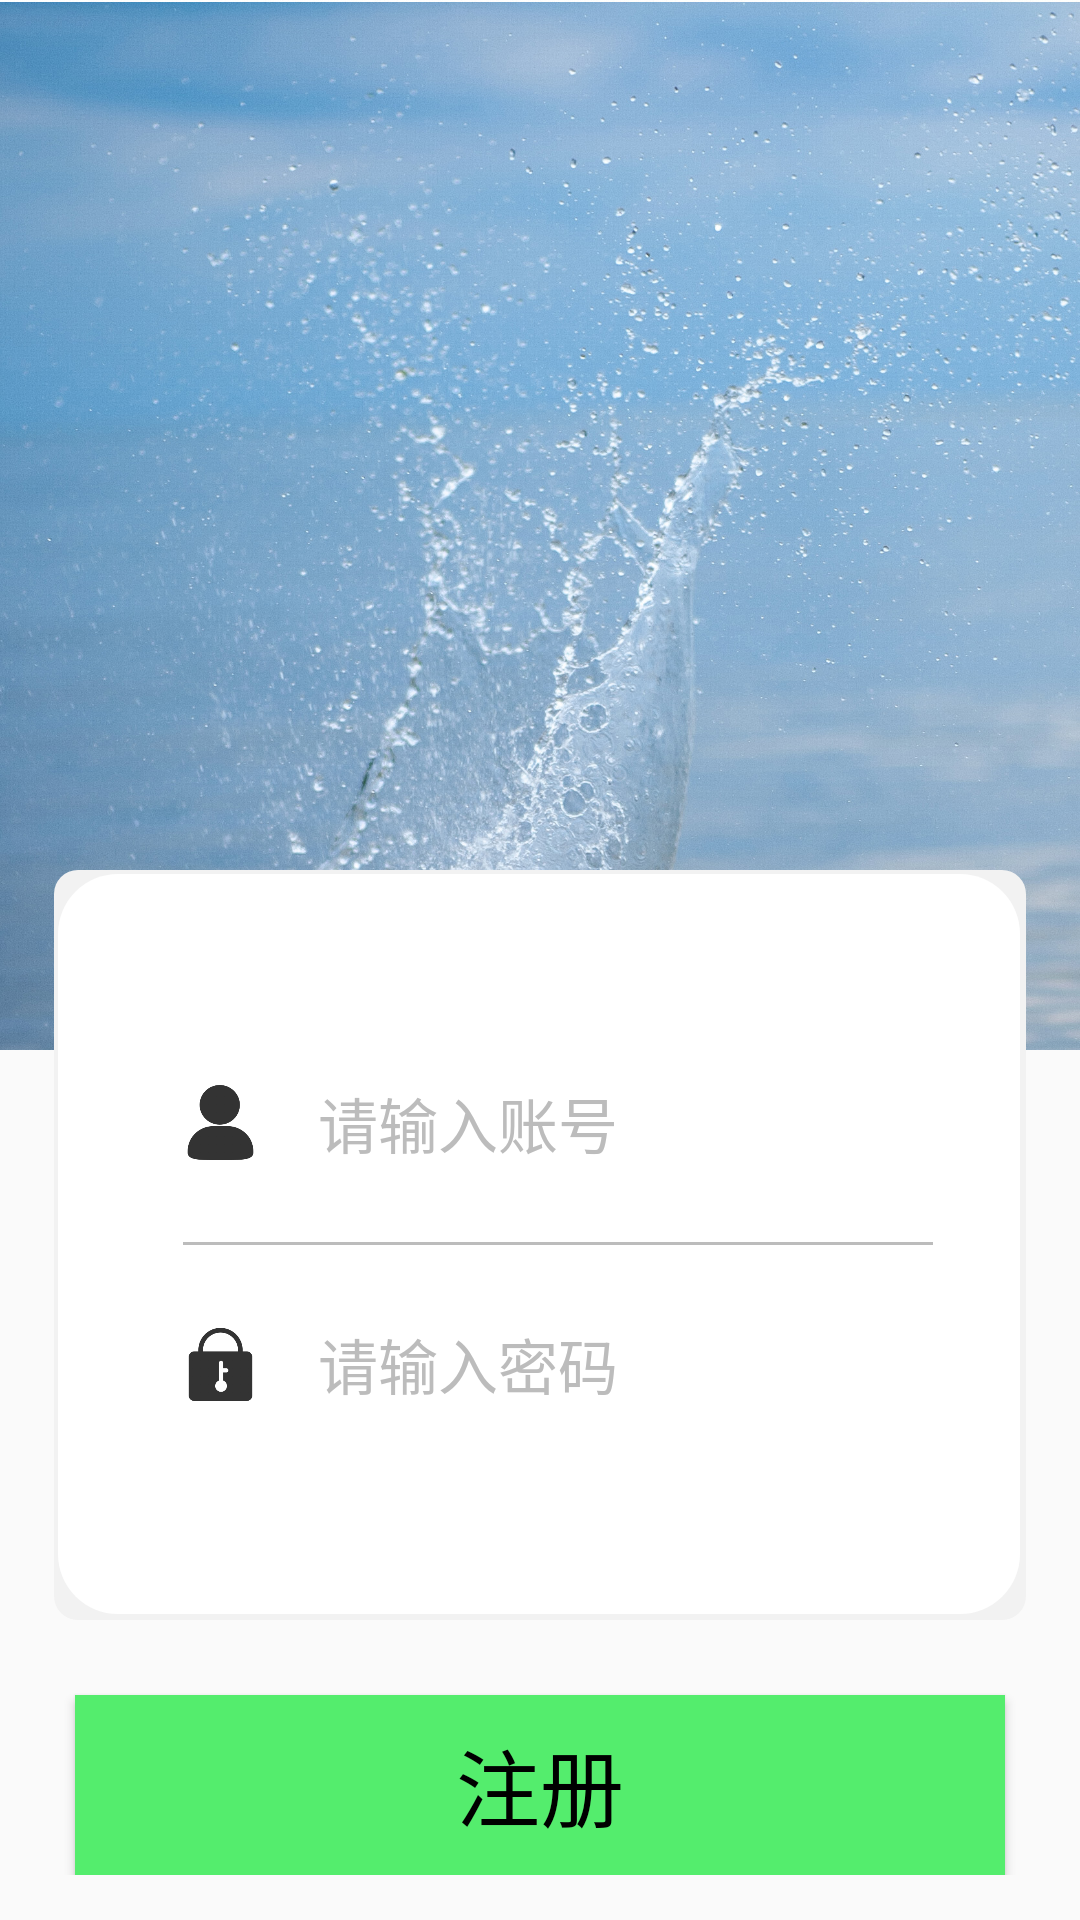

Screen size 1080px x 1920px. Icon name, then its center in pixels as [x,y]:
denglu: [220,1122]
mima: [220,1364]
